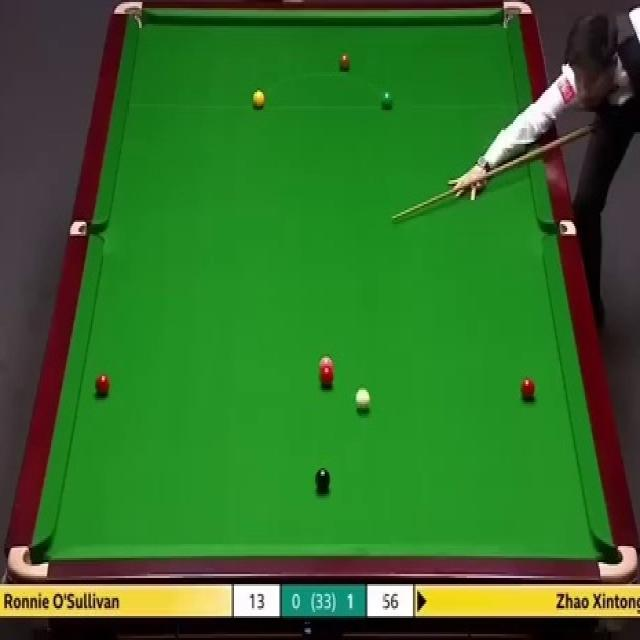pocket: (8, 546, 48, 586), (595, 542, 637, 580), (499, 0, 534, 31), (111, 0, 144, 28), (68, 220, 106, 238), (542, 222, 578, 238)
